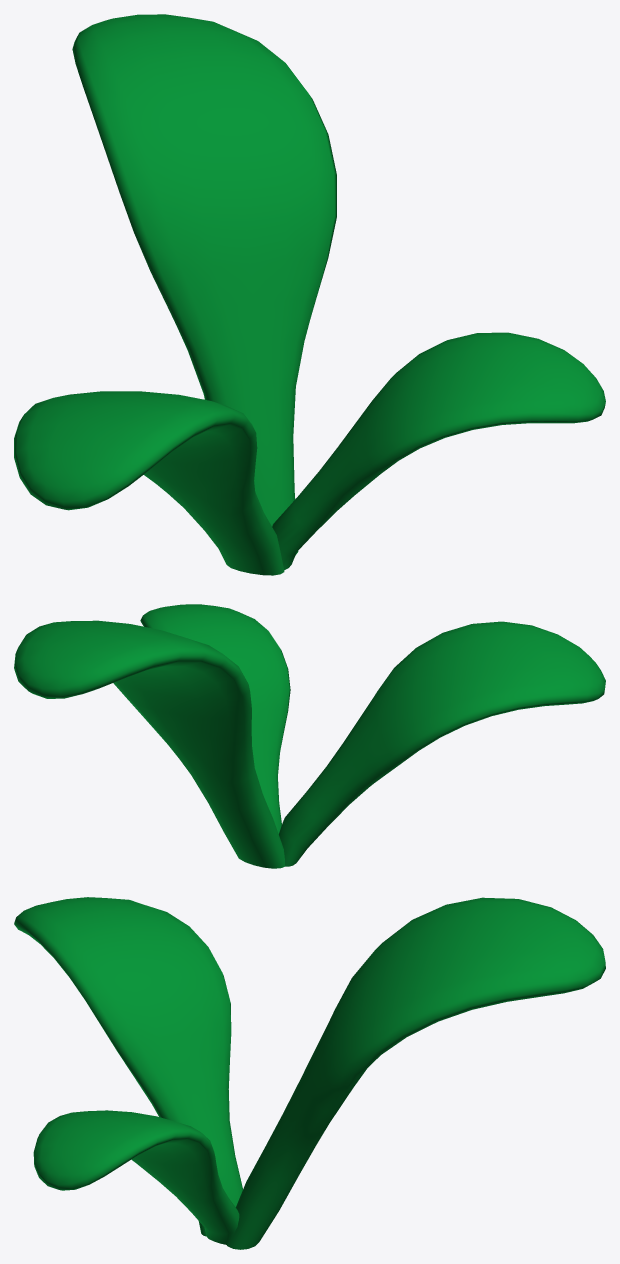
The model's file is Farm_12_Plant_2.glb.
3 renders of one model, top to bottom at view 1: azimuth 30°, elevation 25°; view 2: azimuth 150°, elevation 25°; view 3: azimuth 270°, elevation 25°, orthographic. The views are drawn at different scales.
Parts seen in each view (by area): view 1: Farm_12_Plant_2; view 2: Farm_12_Plant_2; view 3: Farm_12_Plant_2.
Part boxes in pixels (<box>): Farm_12_Plant_2: <box>14,14,605,575</box>; Farm_12_Plant_2: <box>14,604,605,868</box>; Farm_12_Plant_2: <box>14,897,605,1249</box>.
Size of the model in its own units: 0.5631 by 0.3684 by 0.5899.
Materials: 1 (1 with a texture image).
